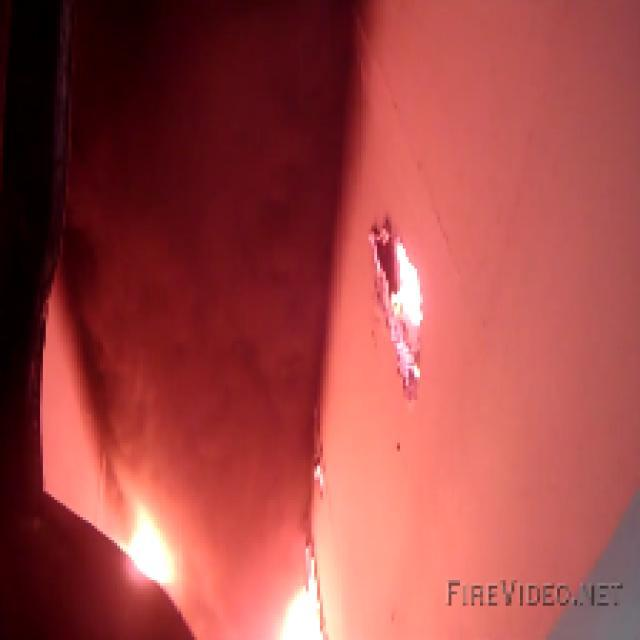Fire: (117, 526, 172, 586)
Smoke: (82, 11, 328, 492)
